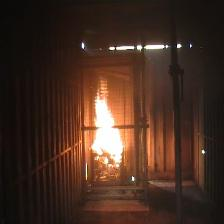fire: (87, 90, 131, 181)
